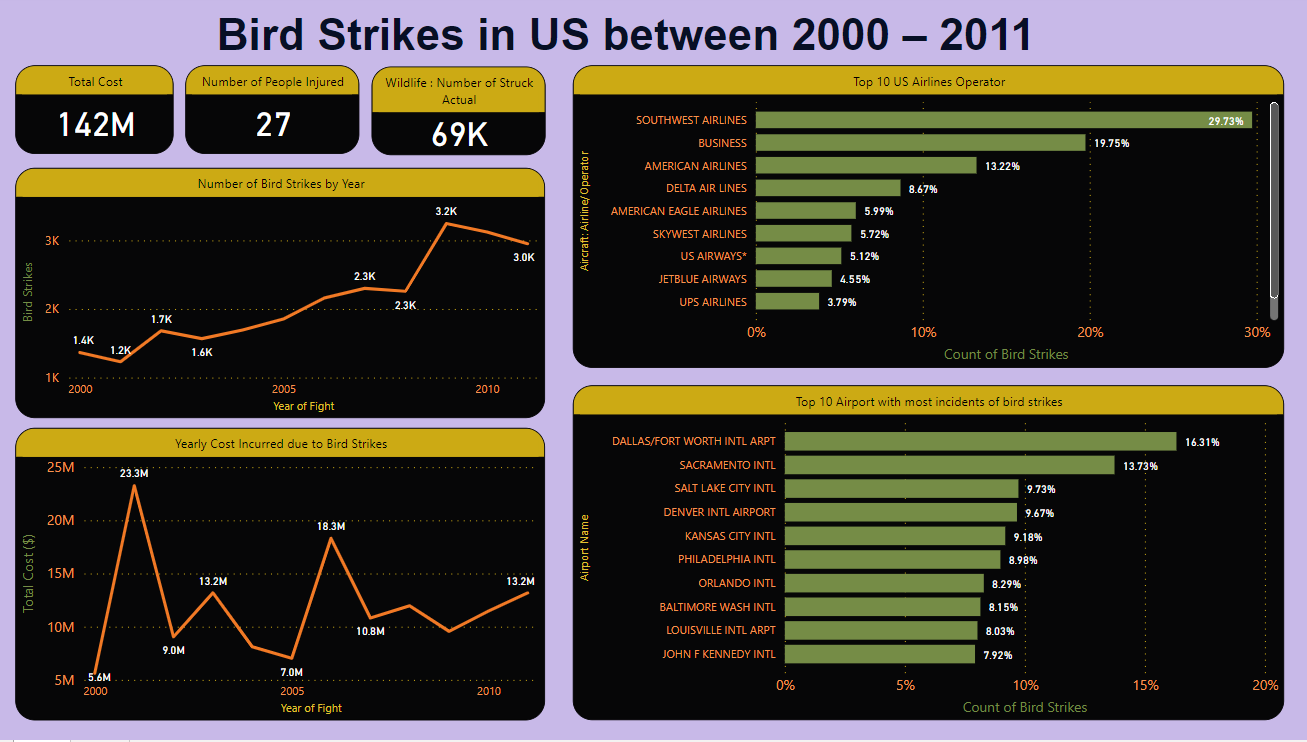

Layout of this report page (visuals, bound fields, positions):
{"tool":"powerbi","page":{"name":"1","canvas":[1280,720],"ordinal":0},"visuals":[{"type":"lineChart","fields":{"Category":["Bird Strikes.FlightDate.Variation.Date Hierarchy.Year"],"Y":["CountNonNull(Bird Strikes.Pilot warned of birds or wildlife?)"]},"box":[25.3,167.6,511.4,241.2],"z":0},{"type":"barChart","title":"Top 10 US Airlines Operator","fields":{"Category":["Bird Strikes.Aircraft: Airline/Operator"],"Y":["CountNonNull(Bird Strikes.Aircraft: Make/Model)"]},"box":[563.2,68.7,686.2,291.9],"z":1000},{"type":"barChart","title":"Top 10 Airport with most incidents of bird strikes","fields":{"Y":["CountNonNull(Bird Strikes.Aircraft: Make/Model)"],"Category":["Bird Strikes.Airport: Name"]},"box":[563.2,377.5,686.2,323.2],"z":2000},{"type":"lineChart","title":"Yearly Cost Incurred due to Bird Strikes","fields":{"Category":["Bird Strikes.FlightDate.Variation.Date Hierarchy.Year"],"Y":["Sum(Bird Strikes.Cost: Total $)"]},"box":[25.3,418.5,511.4,282.2],"z":3000},{"type":"textbox","box":[214.7,9.6,812.9,59.1],"z":4000},{"type":"card","title":"Number of People Injured","fields":{"Values":["Sum(Bird Strikes.Number of people injured)"]},"box":[189.3,68.7,167.6,85.6],"z":5000},{"type":"card","title":"Total Cost","fields":{"Values":["Sum(Bird Strikes.Cost: Total $)"]},"box":[25.3,68.7,153.2,85.6],"z":6000},{"type":"card","title":"Wildlife : Number of Struck Actual","fields":{"Values":["Sum(Bird Strikes.Wildlife: Number Struck Actual)"]},"box":[369,69.9,167.6,85.6],"z":7000}]}

Visuals, with their boxes in screenshot pixels (x1, y1, x2, y2), scaled from the page's 1280x720 canvas onto the 1307x742 screenshot:
lineChart - Bird Strikes.FlightDate.Variation.Date Hierarchy.Year x CountNonNull(Bird Strikes.Pilot warned of birds or wildlife?): x1=26 y1=173 x2=548 y2=421
"Top 10 US Airlines Operator" barChart: x1=575 y1=71 x2=1276 y2=372
"Top 10 Airport with most incidents of bird strikes" barChart: x1=575 y1=389 x2=1276 y2=722
"Yearly Cost Incurred due to Bird Strikes" lineChart: x1=26 y1=431 x2=548 y2=722
textbox: x1=219 y1=10 x2=1049 y2=71
"Number of People Injured" card: x1=193 y1=71 x2=364 y2=159
"Total Cost" card: x1=26 y1=71 x2=182 y2=159
"Wildlife : Number of Struck Actual" card: x1=377 y1=72 x2=548 y2=160
